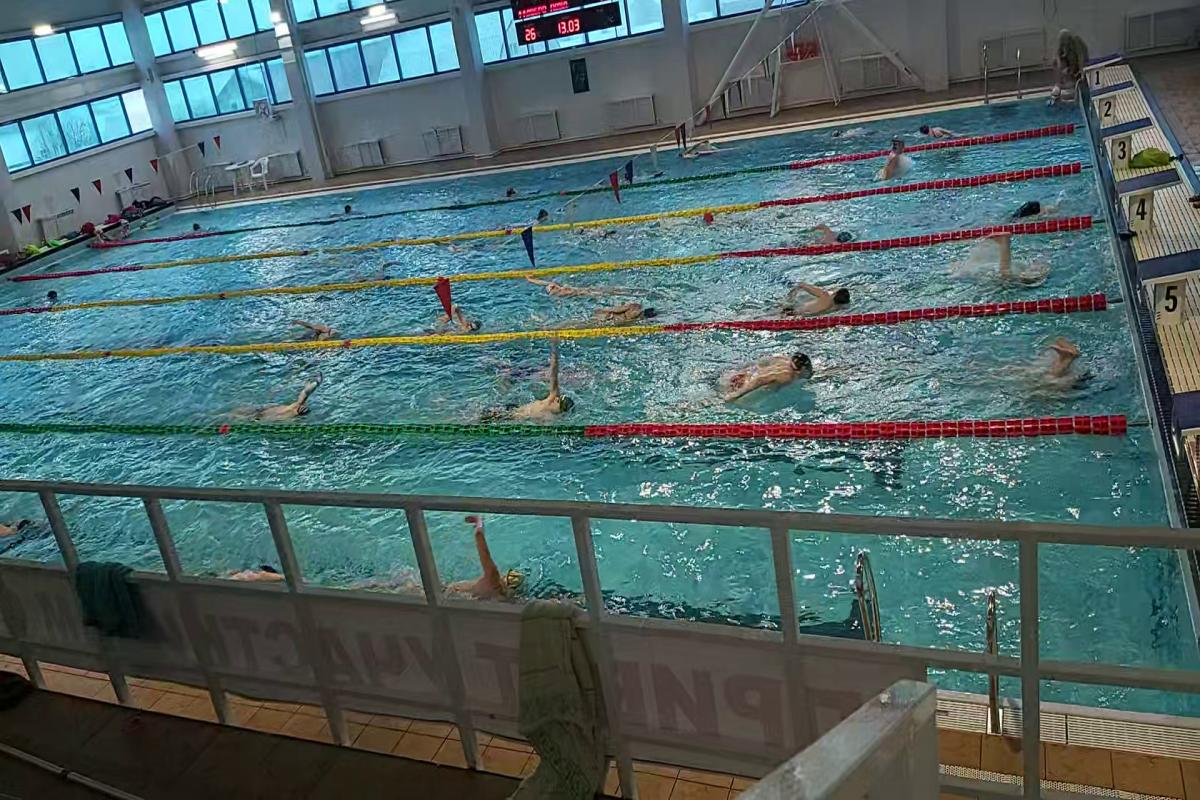swimmer: (472, 354, 596, 427), (368, 548, 537, 600), (702, 343, 838, 404), (228, 371, 344, 425), (754, 262, 858, 316), (982, 226, 1059, 288), (514, 268, 636, 296), (202, 557, 302, 590), (778, 215, 873, 248), (1042, 335, 1096, 388), (574, 300, 659, 329), (430, 298, 491, 336), (281, 311, 361, 339), (0, 507, 49, 550), (1009, 195, 1082, 216), (880, 139, 918, 179), (576, 221, 631, 243), (516, 209, 563, 224)
